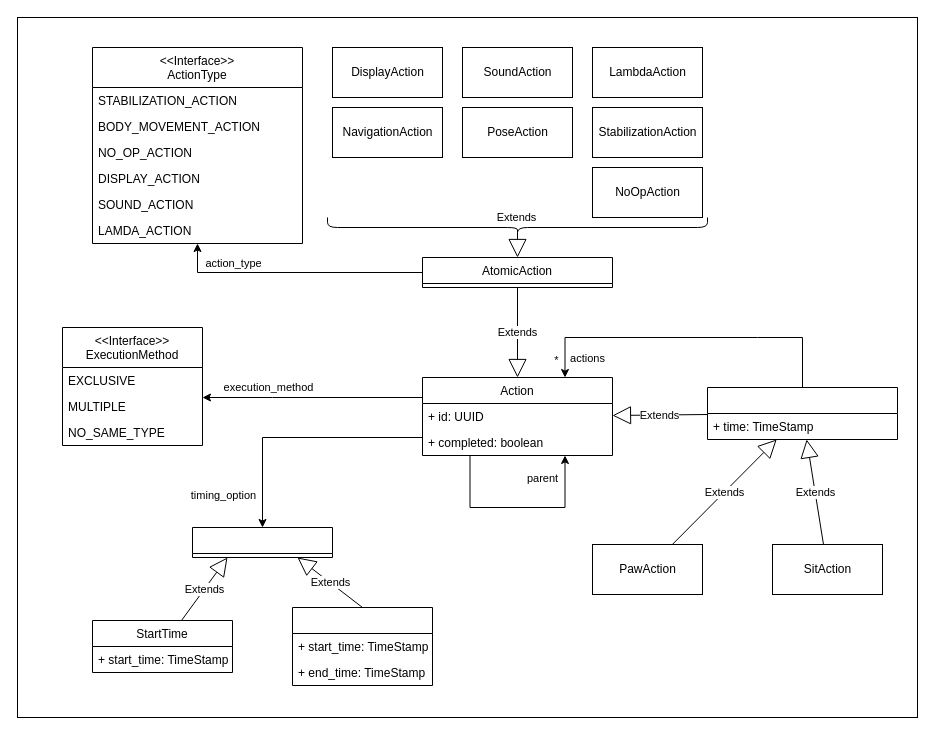
This 935x735 diagram has some shape labels left out. The box of each missing label's shape, as (x1, y1, x2, y2) in pixels:
ActionGroup: (706, 386, 898, 440)
Duration: (292, 606, 432, 686)
TimingOption: (192, 526, 332, 558)
